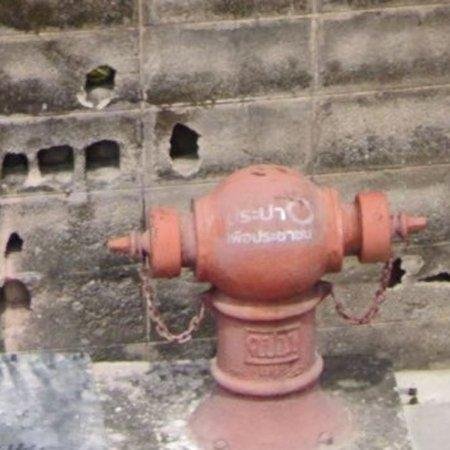a fire hydrant: (109, 165, 426, 397)
